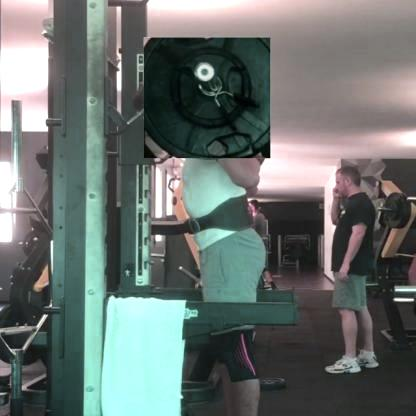barbell: (144, 39, 271, 160)
